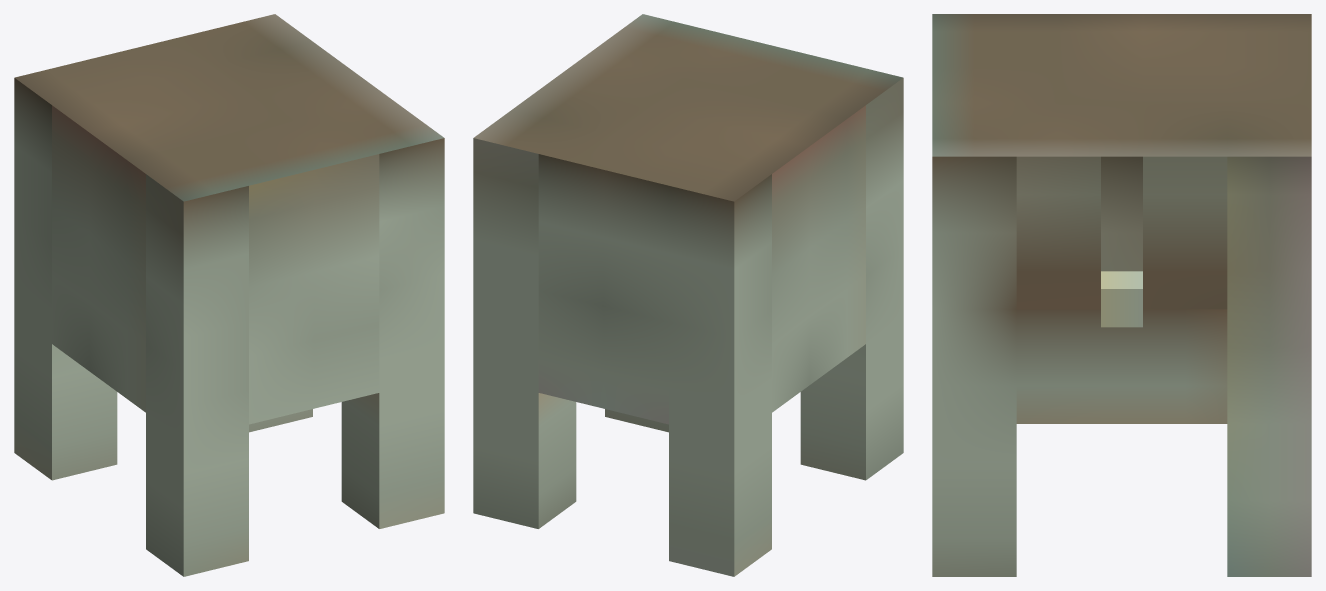
The model's file is CabinetBedSide_01.obj.
3 renders of one model, left to right at view 1: azimuth 30°, elevation 25°; view 2: azimuth 150°, elevation 25°; view 3: azimuth 270°, elevation 25°, orthographic. The views are drawn at different scales.
Visible parts, largest first — view 1: CabinetBedSide_01; view 2: CabinetBedSide_01; view 3: CabinetBedSide_01.
Boxes of the visible parts, left/top/right/bottom form: CabinetBedSide_01: left=14, top=14, right=444, bottom=576; CabinetBedSide_01: left=473, top=14, right=903, bottom=576; CabinetBedSide_01: left=932, top=14, right=1311, bottom=576.
Bounding box in the file's own units: 0.45 × 0.55 × 0.45.
